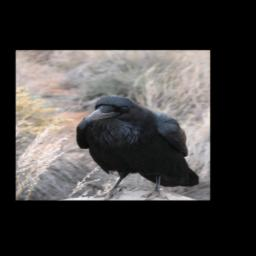Crow: (74, 95, 201, 200)
